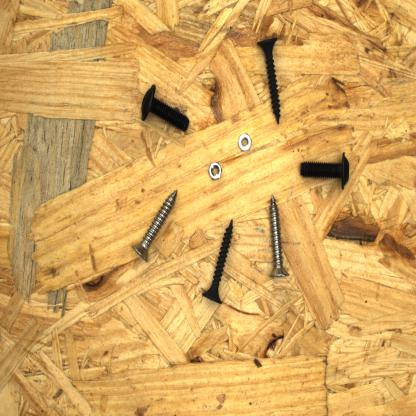screw: (128, 185, 183, 265), (199, 216, 237, 308), (137, 82, 194, 137), (256, 34, 284, 130), (266, 193, 295, 281), (295, 150, 354, 192)
